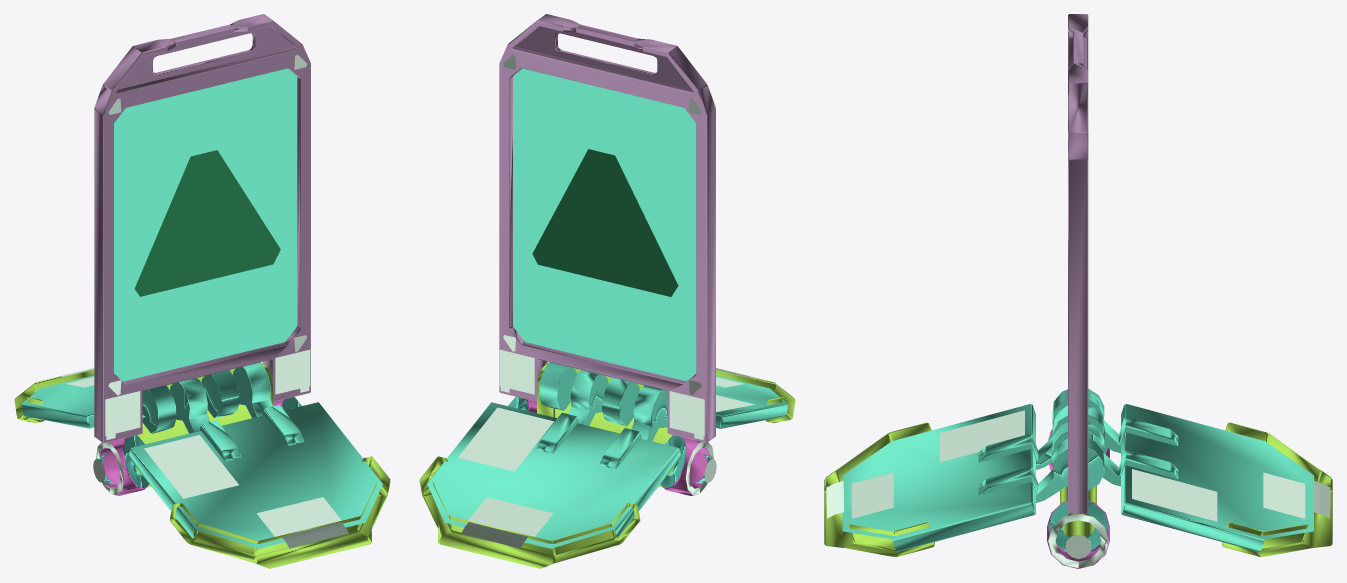
Rendered from sign_maintenance_1_a.glb.
3 renders of one model, left to right at view 1: azimuth 30°, elevation 25°; view 2: azimuth 150°, elevation 25°; view 3: azimuth 270°, elevation 25°, orthographic. The views are drawn at different scales.
Bounding box in the file's own units: 0.3579 × 0.7207 × 0.7028.
